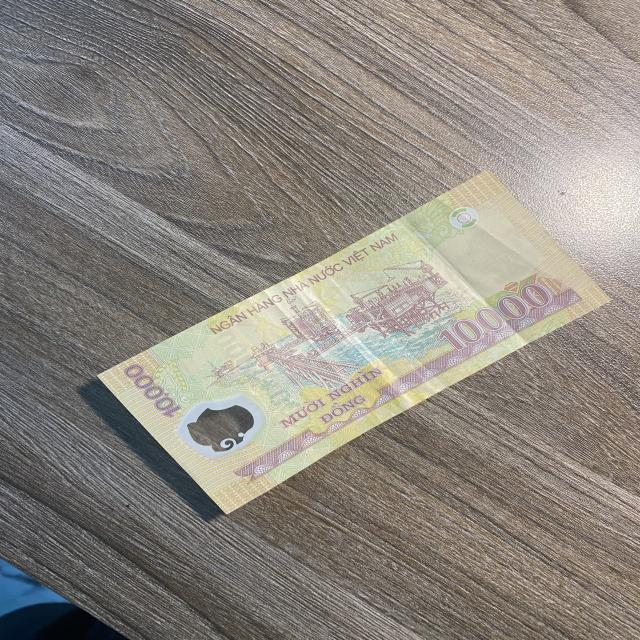10 000 VND: (90, 166, 614, 520)
